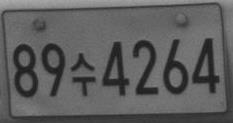2: (131, 38, 159, 95)
4: (101, 40, 130, 97), (191, 37, 220, 94)
6: (161, 38, 189, 94)
8: (12, 42, 39, 98)
9: (40, 42, 66, 97)
수: (70, 52, 95, 97)
